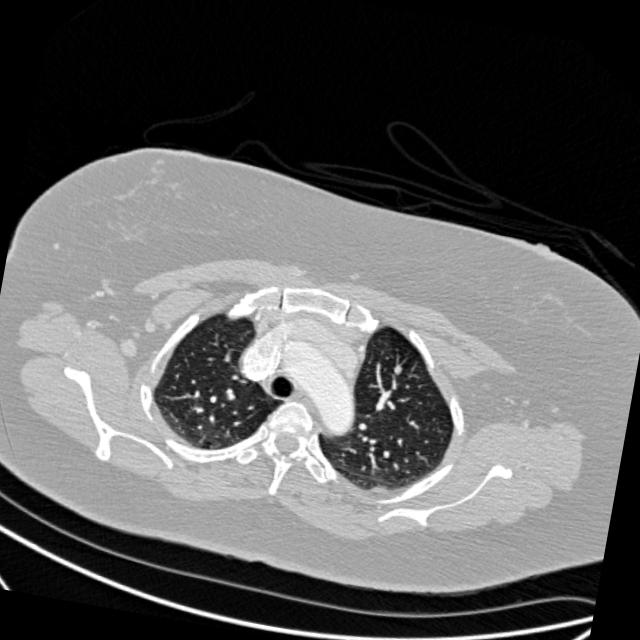nodule: (386, 356, 408, 379)
